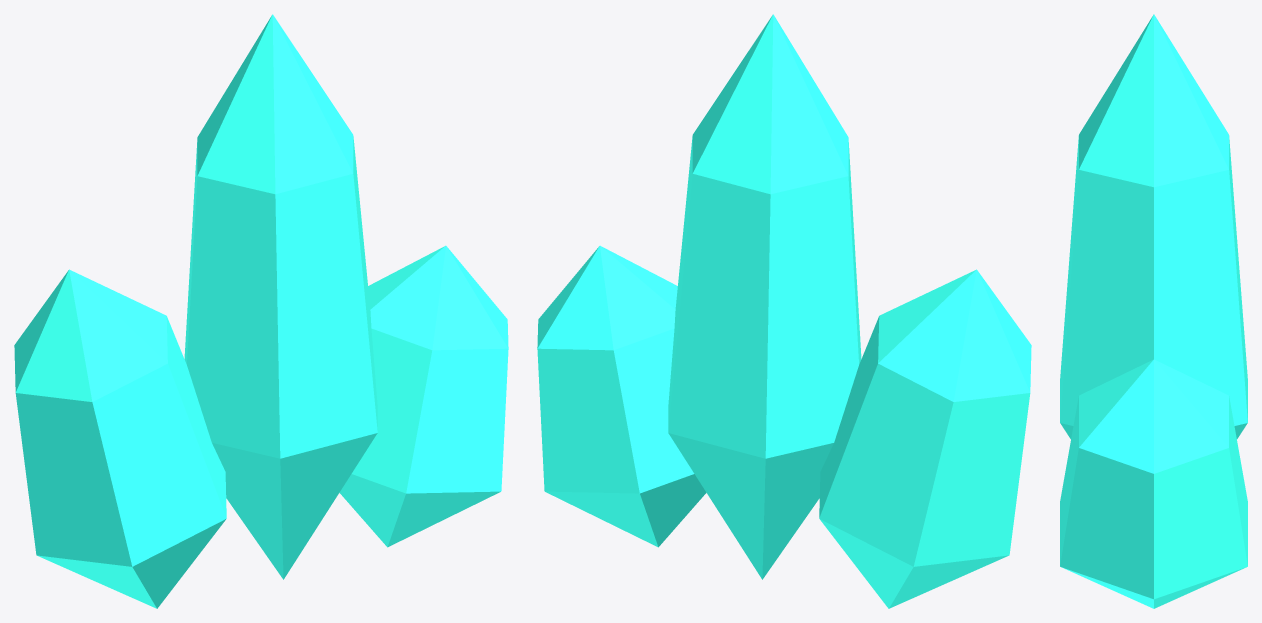
File: ore-14.glb
3 views of the same model, side by side, from view 1: azimuth 30°, elevation 25°; view 2: azimuth 150°, elevation 25°; view 3: azimuth 270°, elevation 25° (orthographic). The views are drawn at different scales.
Visible parts, largest first — view 1: Amazonite prismatic cluster.001, Amazonite prismatic cluster, Amazonite prismatic cluster.002; view 2: Amazonite prismatic cluster.001, Amazonite prismatic cluster, Amazonite prismatic cluster.002; view 3: Amazonite prismatic cluster.001, Amazonite prismatic cluster.002.
Part boxes in pixels (bbox=[...]): Amazonite prismatic cluster.001: bbox=[184, 14, 377, 579]; Amazonite prismatic cluster: bbox=[14, 269, 226, 608]; Amazonite prismatic cluster.002: bbox=[339, 245, 508, 547]; Amazonite prismatic cluster.001: bbox=[668, 14, 861, 579]; Amazonite prismatic cluster: bbox=[819, 269, 1031, 608]; Amazonite prismatic cluster.002: bbox=[537, 245, 706, 547]; Amazonite prismatic cluster.001: bbox=[1060, 14, 1247, 438]; Amazonite prismatic cluster.002: bbox=[1060, 359, 1247, 608].
Size of the model in its own units: 1.31 by 1.45 by 0.4503.
